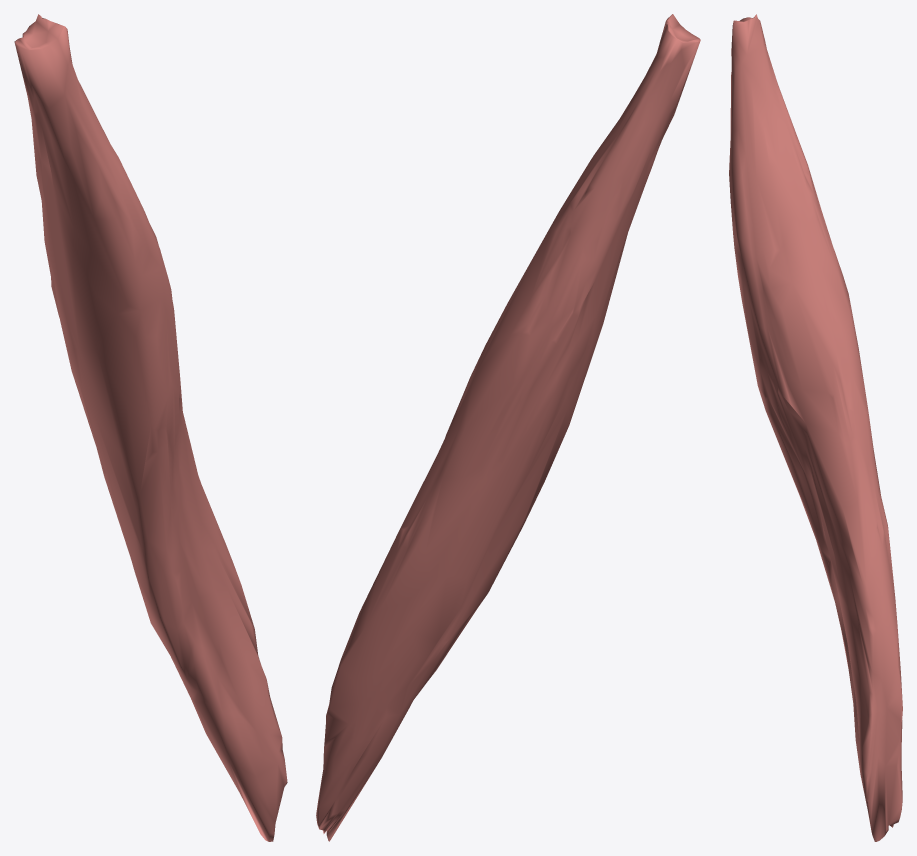
The picture shows the model from 3 angles, left to right: view 1: azimuth 30°, elevation 25°; view 2: azimuth 150°, elevation 25°; view 3: azimuth 270°, elevation 25°; orthographic projection. The views are drawn at different scales.
Visible parts, largest first — view 1: ZA_e1db2cde54d2773b; view 2: ZA_e1db2cde54d2773b; view 3: ZA_e1db2cde54d2773b.
Boxes of the visible parts, x1=… form: ZA_e1db2cde54d2773b: x1=14, y1=14, x2=287, y2=841; ZA_e1db2cde54d2773b: x1=316, y1=14, x2=700, y2=841; ZA_e1db2cde54d2773b: x1=729, y1=14, x2=902, y2=841.
Bounding box in the file's own units: 0.0608 × 0.1587 × 0.035.
